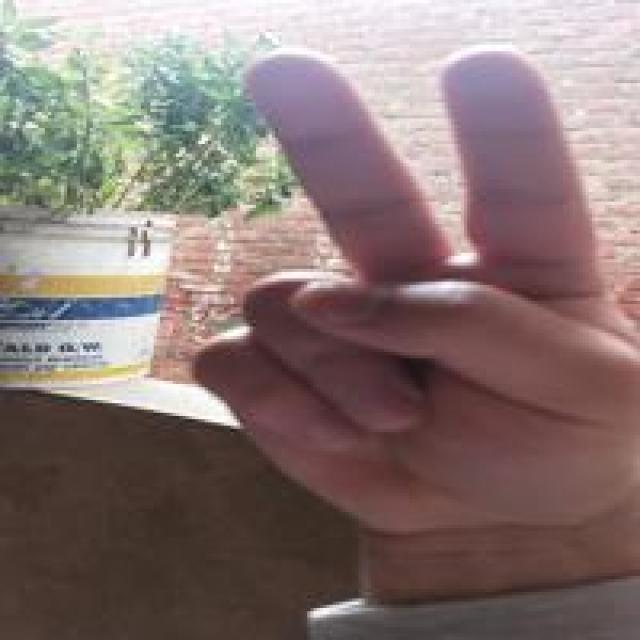V: (189, 37, 640, 552)
